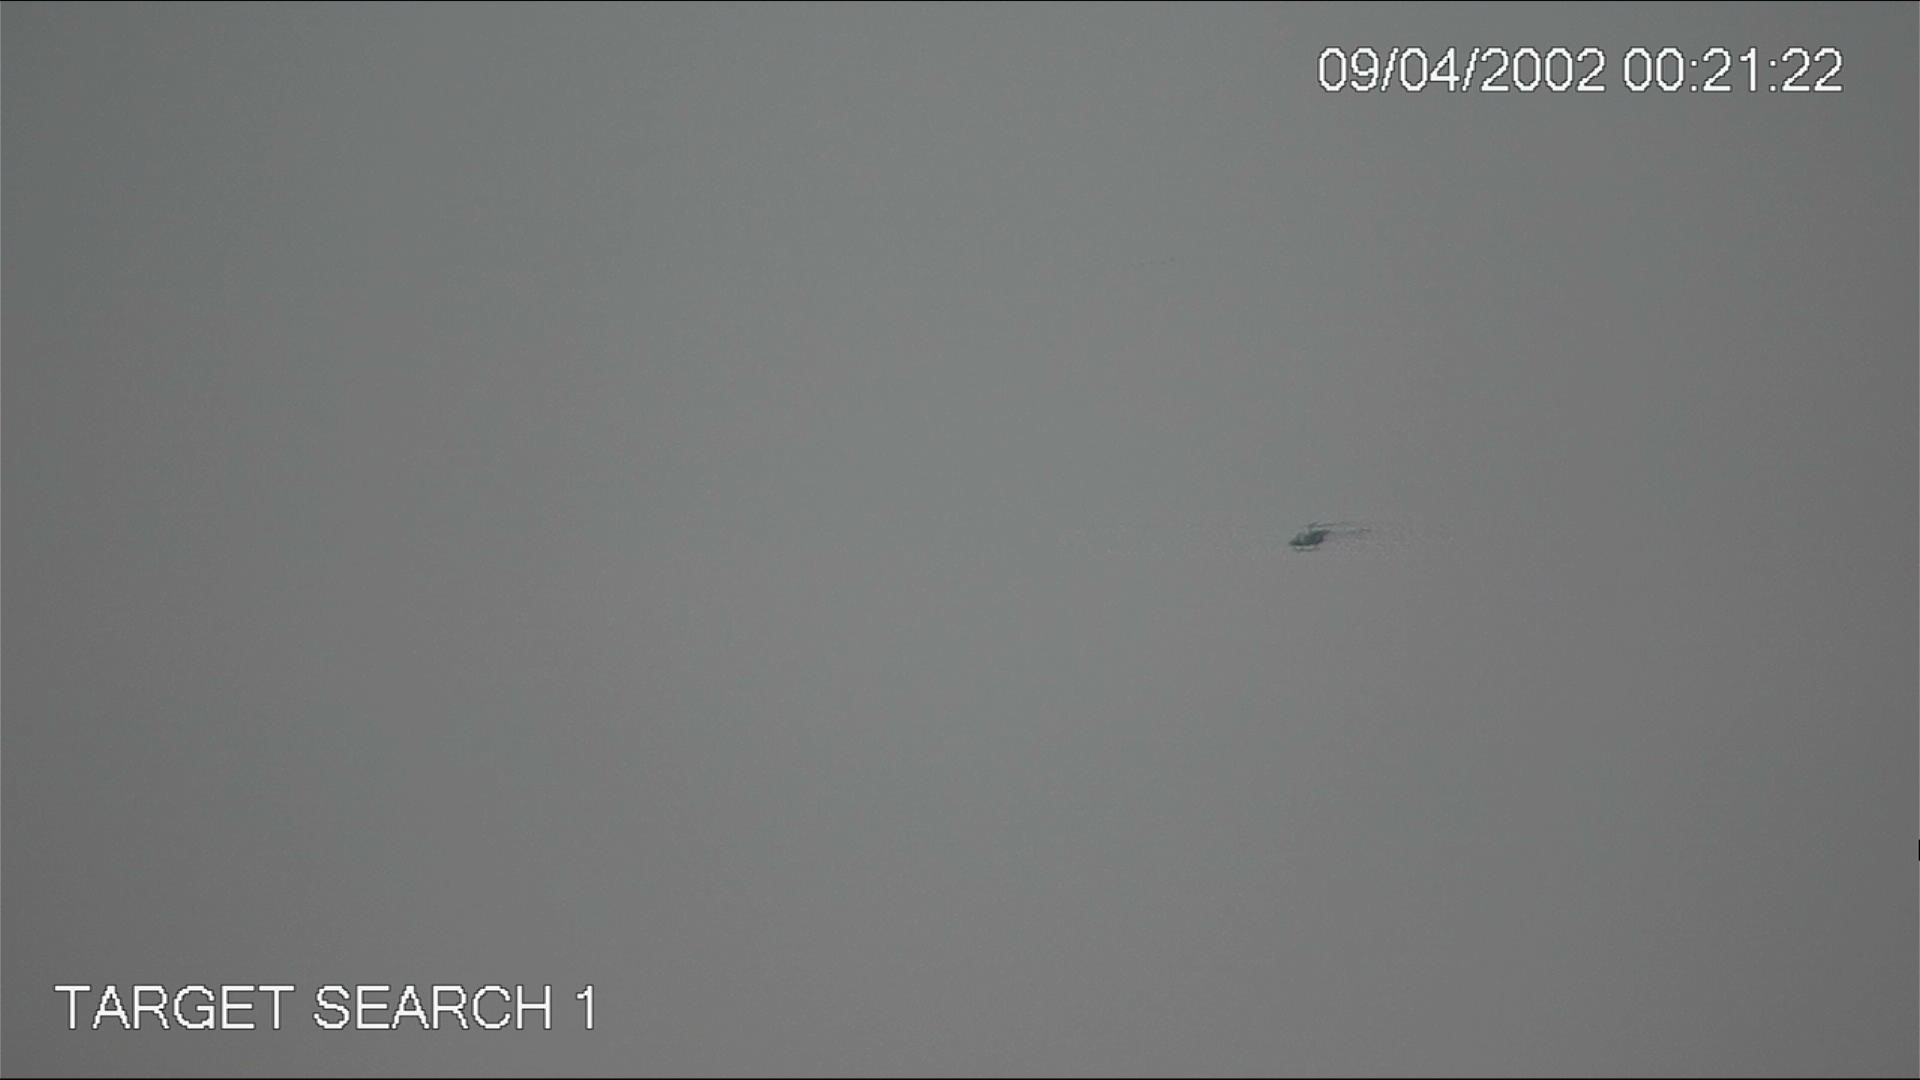SU_30: (1284, 524, 1337, 547)
